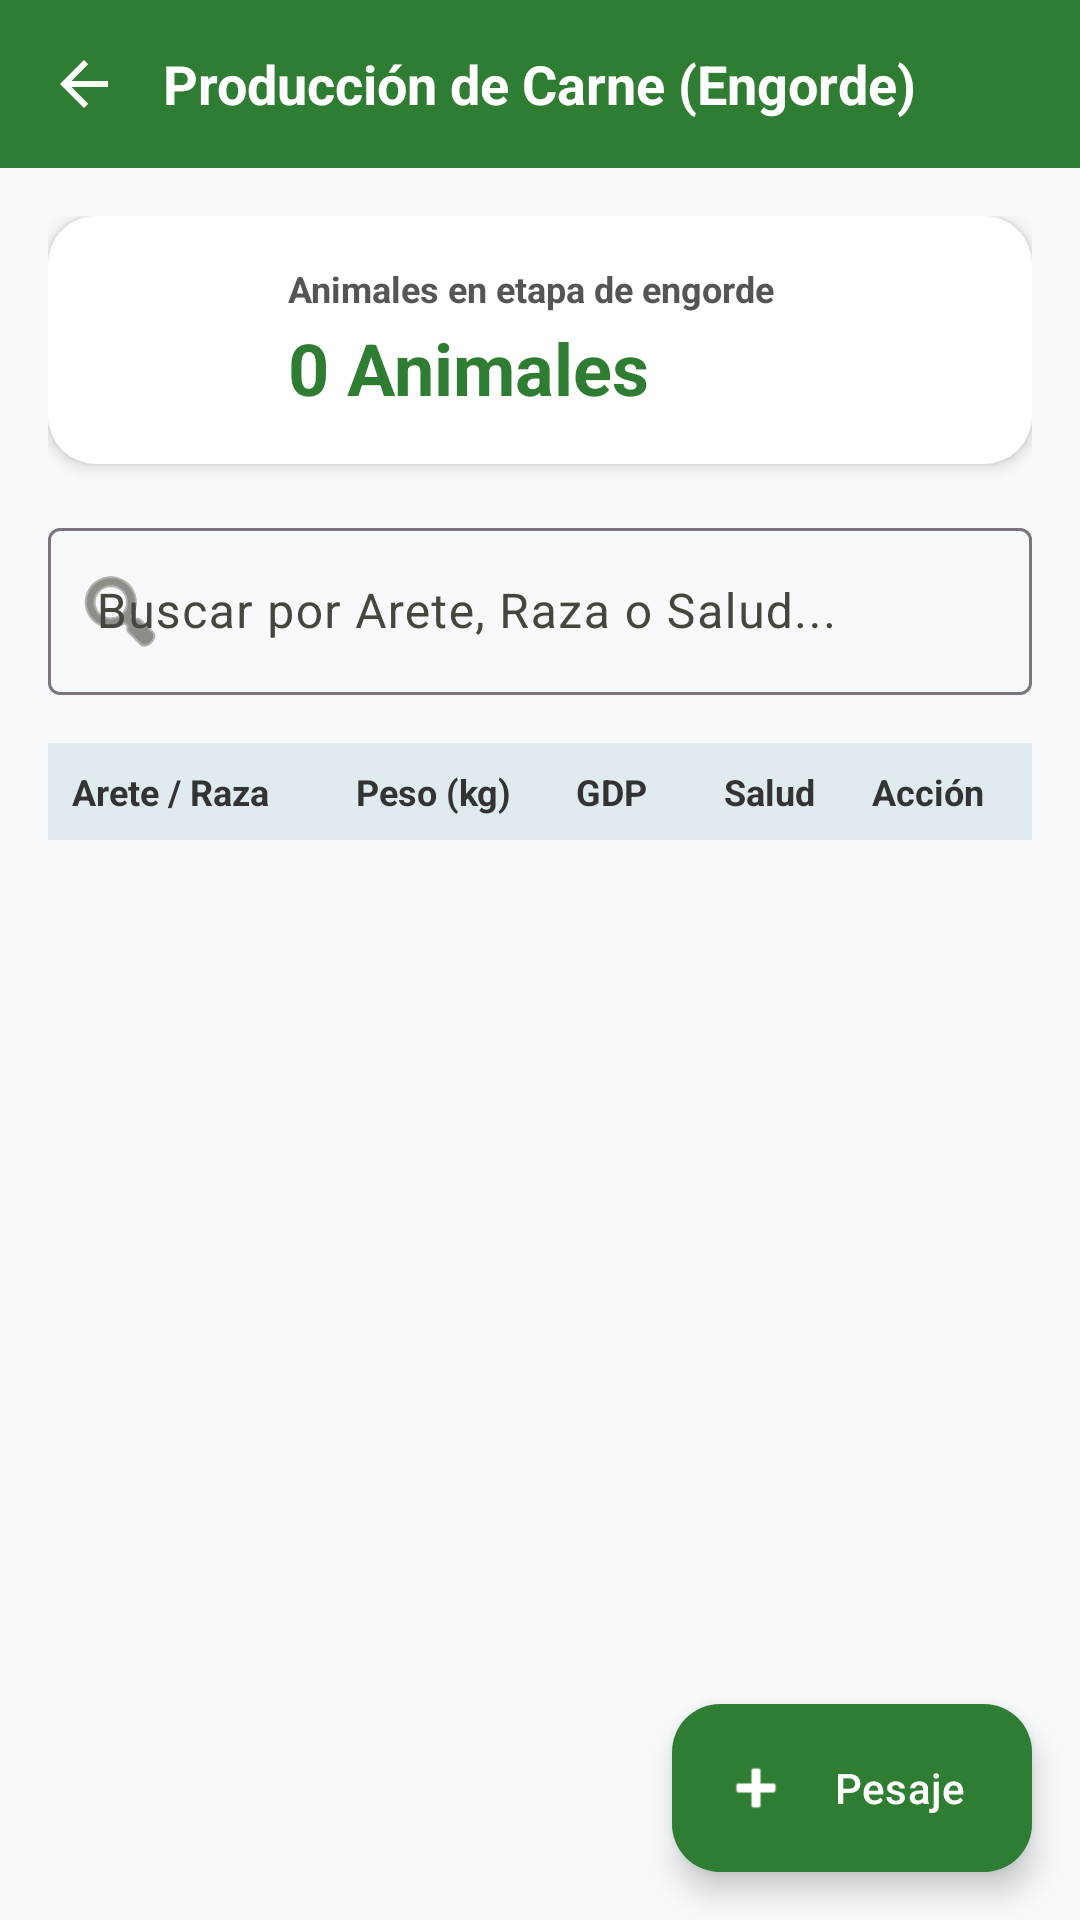

Where icons sit on this 1080 x 1920 app screen, as (x1, y1, x2, y2):
Regresar: (60, 60, 108, 108)
